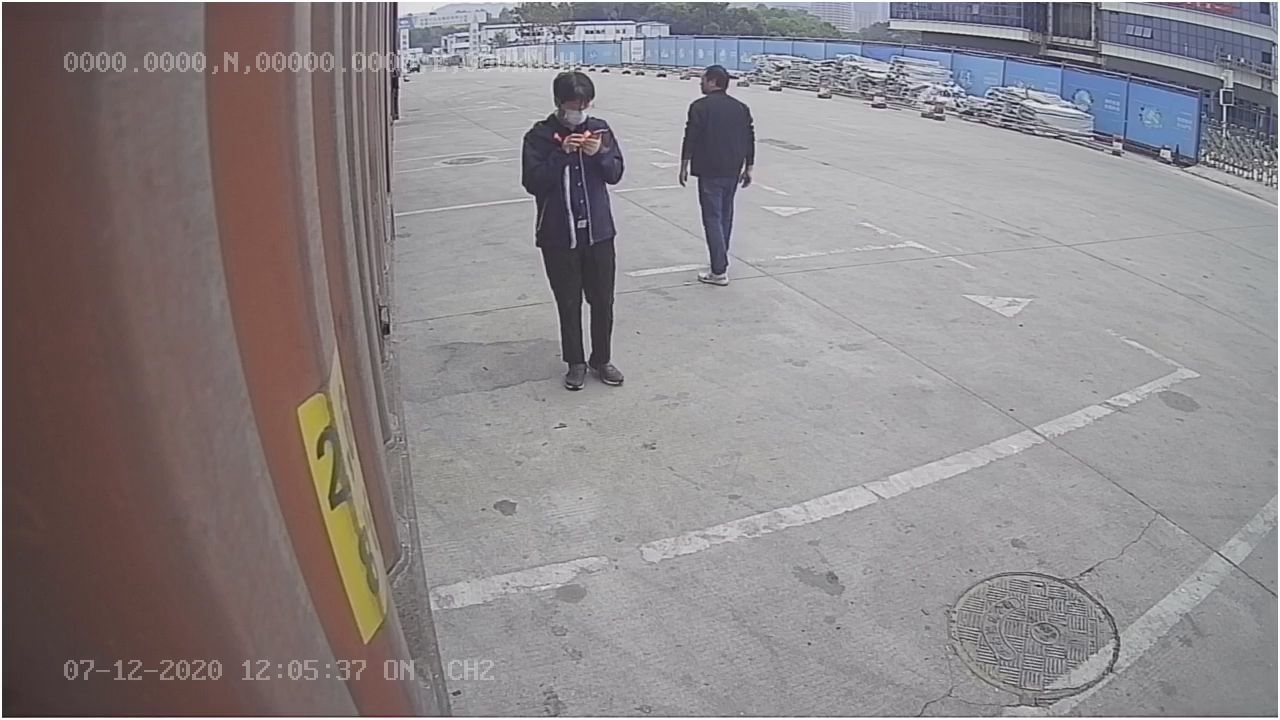person: (517, 70, 633, 390), (677, 62, 757, 288)
